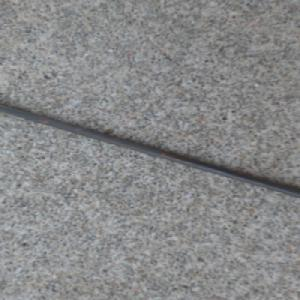LuggagePart: (0, 100, 300, 196)
